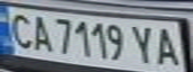1: (87, 19, 109, 58), (69, 18, 90, 57)
7: (51, 16, 72, 55)
9: (103, 20, 130, 62)
A: (151, 24, 184, 69), (27, 12, 54, 53)
C: (3, 9, 36, 51)
Y: (127, 21, 160, 65)
